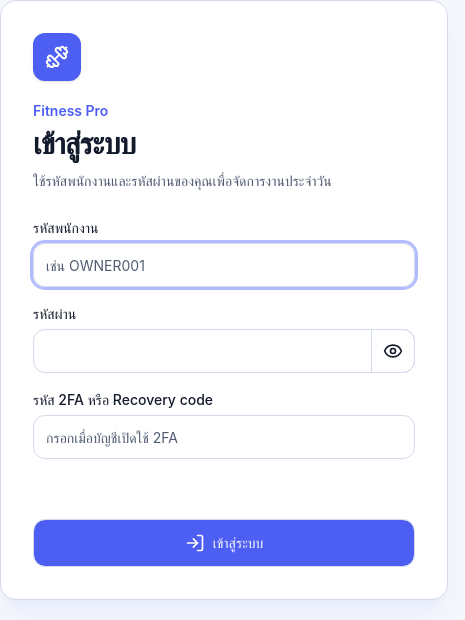
Test case: LoginForm › แสดง inline error พร้อมแนวทางแก้และเปิดให้ลองใหม่
Step 1. Type "OWNER001" into the field labelled "รหัสพนักงาน" → (224, 265), box [33,243,415,287]
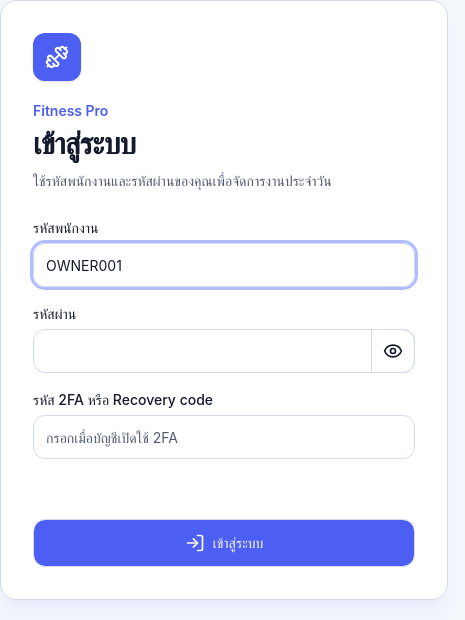
Step 2. Type "wrong" into the password field labelled "รหัสผ่าน" → (224, 351), box [33,329,415,373]
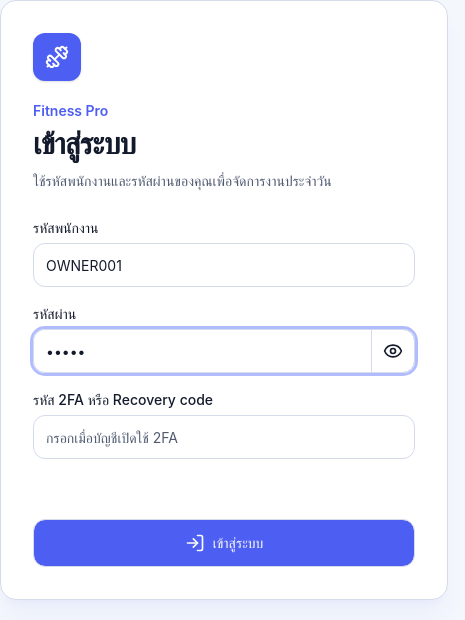
Step 3. Click the button "เข้าสู่ระบบ" → (224, 543), box [33,519,415,567]
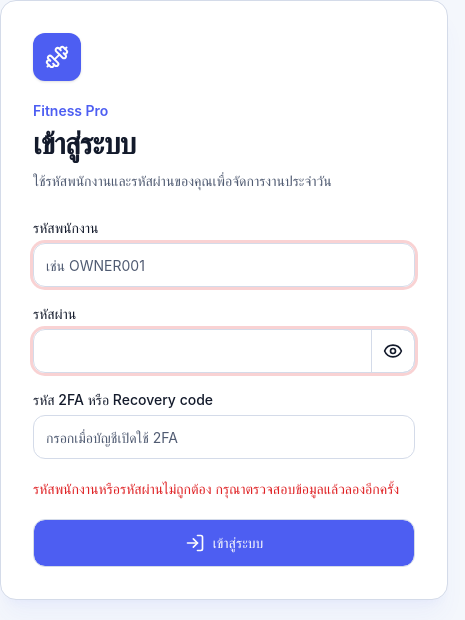
Expected: the text "รหัสพนักงานหรือรหัสผ่านไม่ถูกต้อง กรุณาตรวจสอบข้อมูลแล้วลองอีกครั้ง" is shown, [33,479,415,499]
